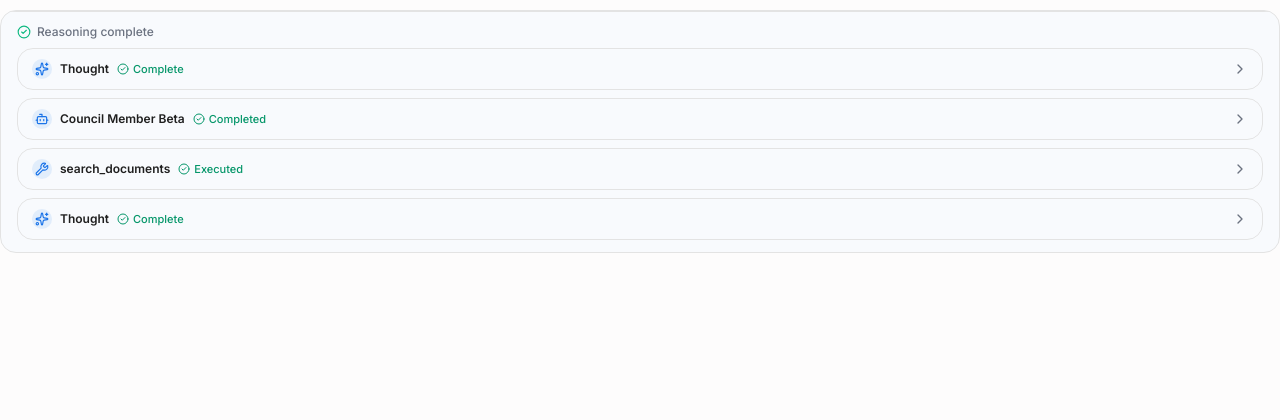
Test case: UI Components › renders ReasoningText and parses structured subagent, tool, and thought tags into interactive components
The image size is (1280, 420).
Expected: the text "Council Member Beta" is shown, [60,111,185,127]
Expected: the text "search_documents" is shown, [60,161,170,177]
# Expand first thought card
Click the 1st button "Thought Complete": (85, 68) [18,49,1262,89]
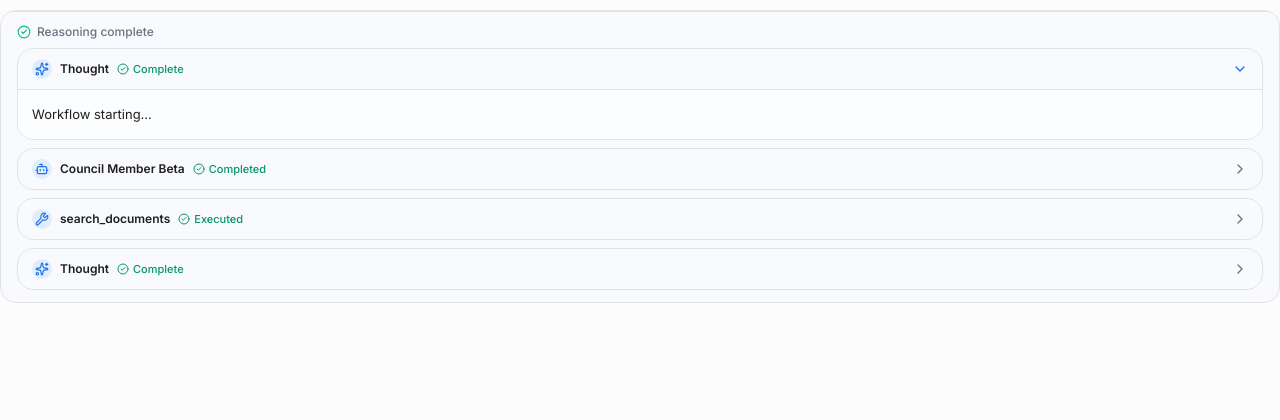
Now the text "Workflow starting..." is shown, box [32,106,152,122]
# Expand subagent card
Click the button "Council Member Beta Completed": (122, 169) [18,149,1262,189]
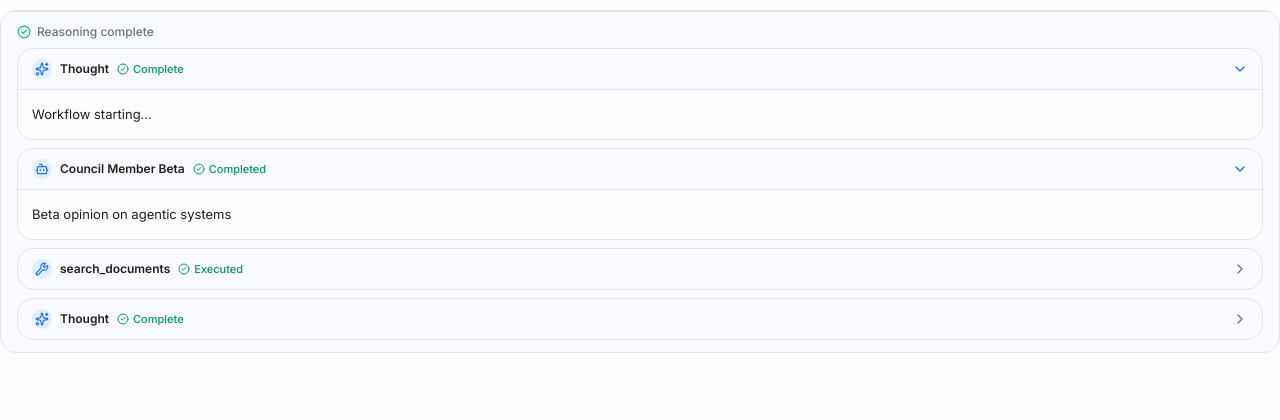
Now the text "Beta opinion on agentic systems" is shown, box [32,206,231,222]
# Expand second thought card
Click the 2nd button "Thought Complete": (85, 319) [18,299,1262,339]
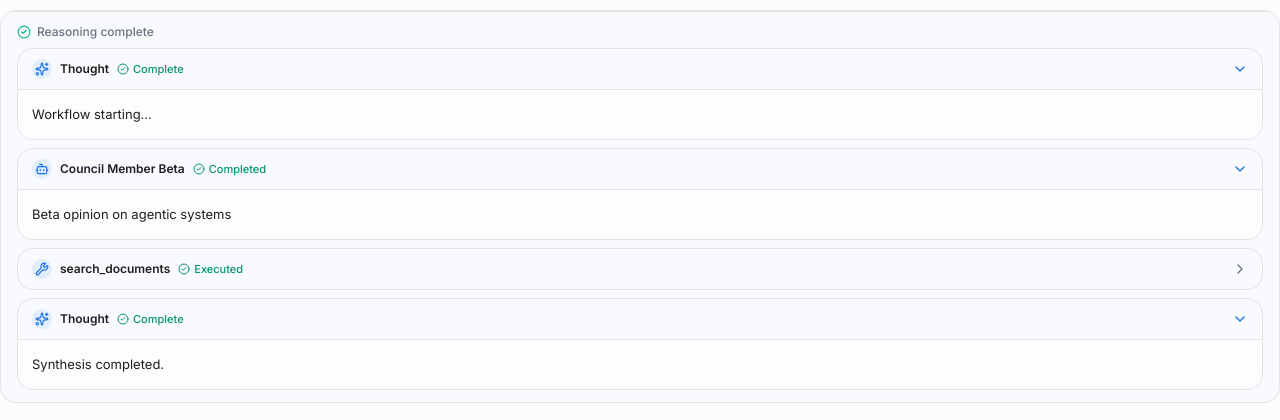
Now the text "Synthesis completed." is shown, box [32,356,164,372]
